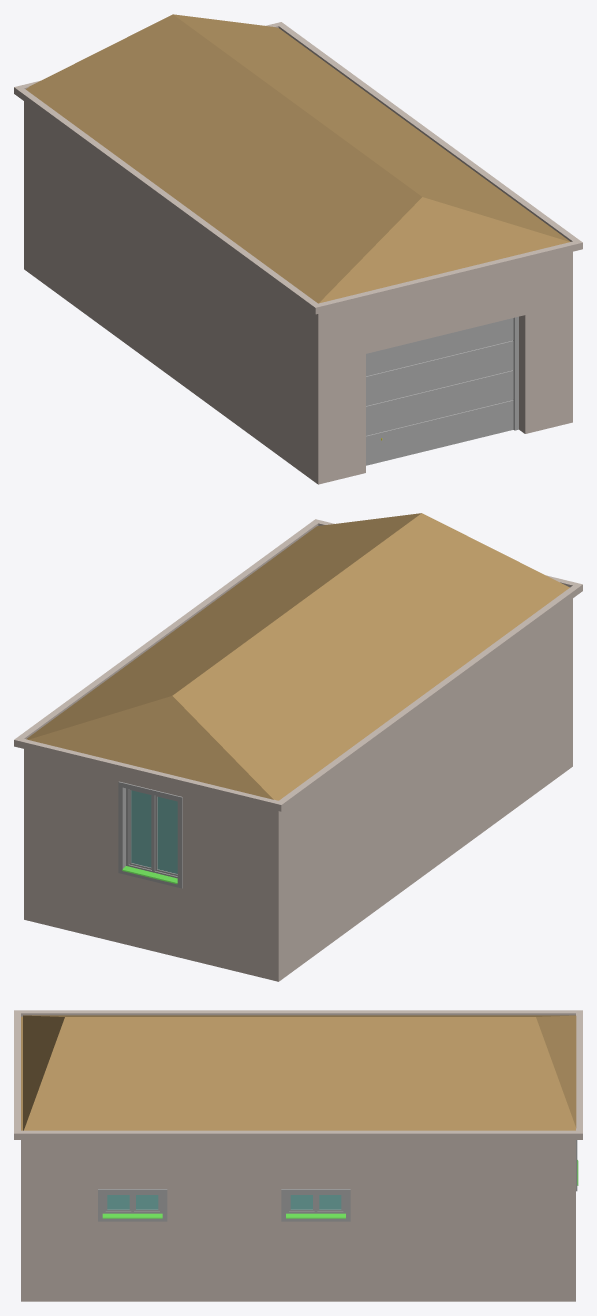
Rendered from House_4_4.FBX.
The picture shows the model from 3 angles, top to bottom: view 1: azimuth 30°, elevation 25°; view 2: azimuth 150°, elevation 25°; view 3: azimuth 270°, elevation 25°; orthographic projection. The views are drawn at different scales.
Visible parts, largest first — view 1: H4-mod-4_LOD0; view 2: H4-mod-4_LOD0; view 3: H4-mod-4_LOD0.
Part boxes in pixels (x1,y1,x2,y2): H4-mod-4_LOD0: [14, 14, 582, 484]; H4-mod-4_LOD0: [14, 513, 582, 981]; H4-mod-4_LOD0: [14, 1010, 582, 1301].
Size of what is drawn, in the model's own units: 630 by 539 by 1230.
